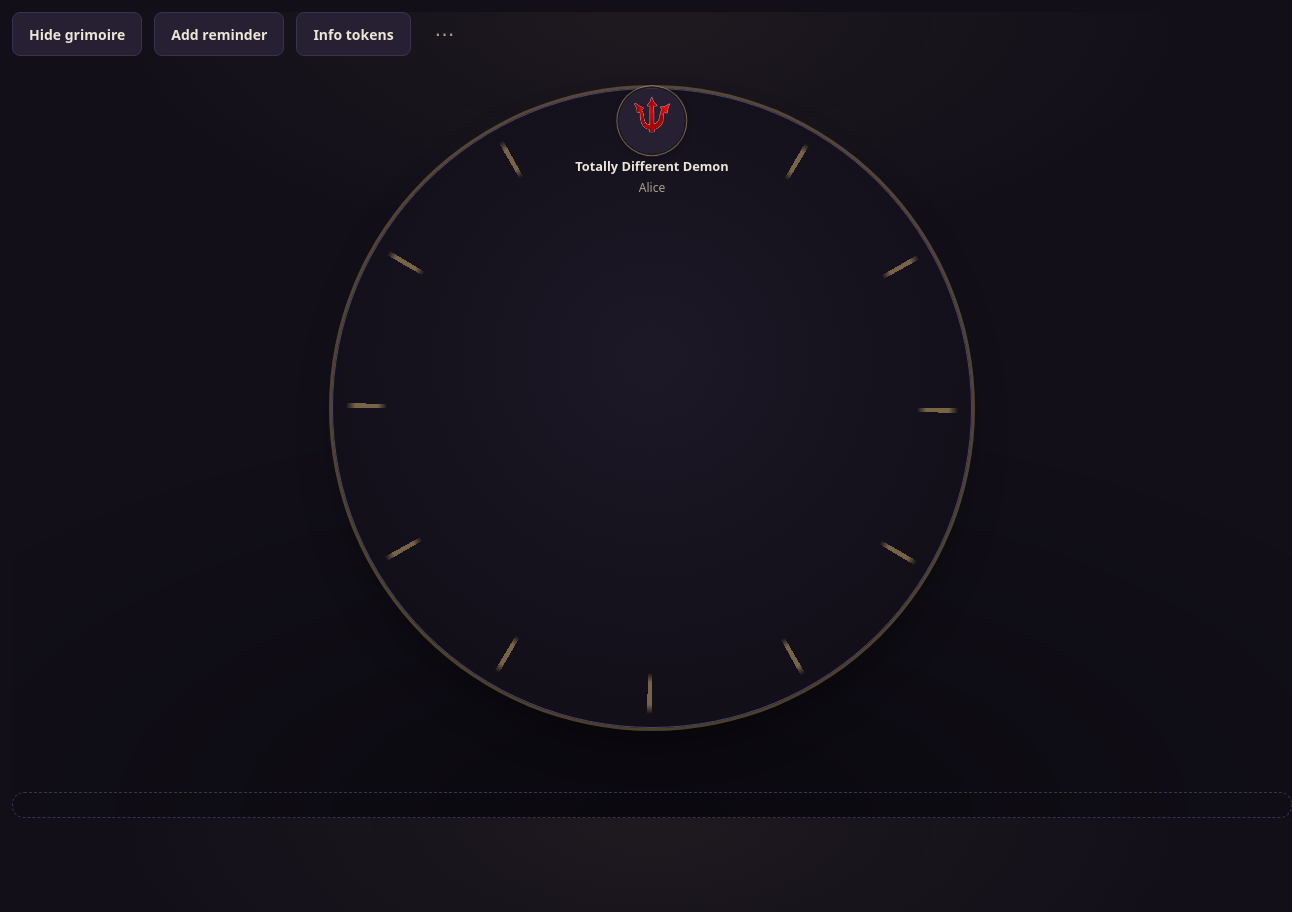
Test case: token menu › links to the almanac, not the wiki, for a homebrew character reusing an official id
The image size is (1292, 912).
Click the text "Alice" at [652, 188], box top-left (639, 180), bottom-right (665, 197)
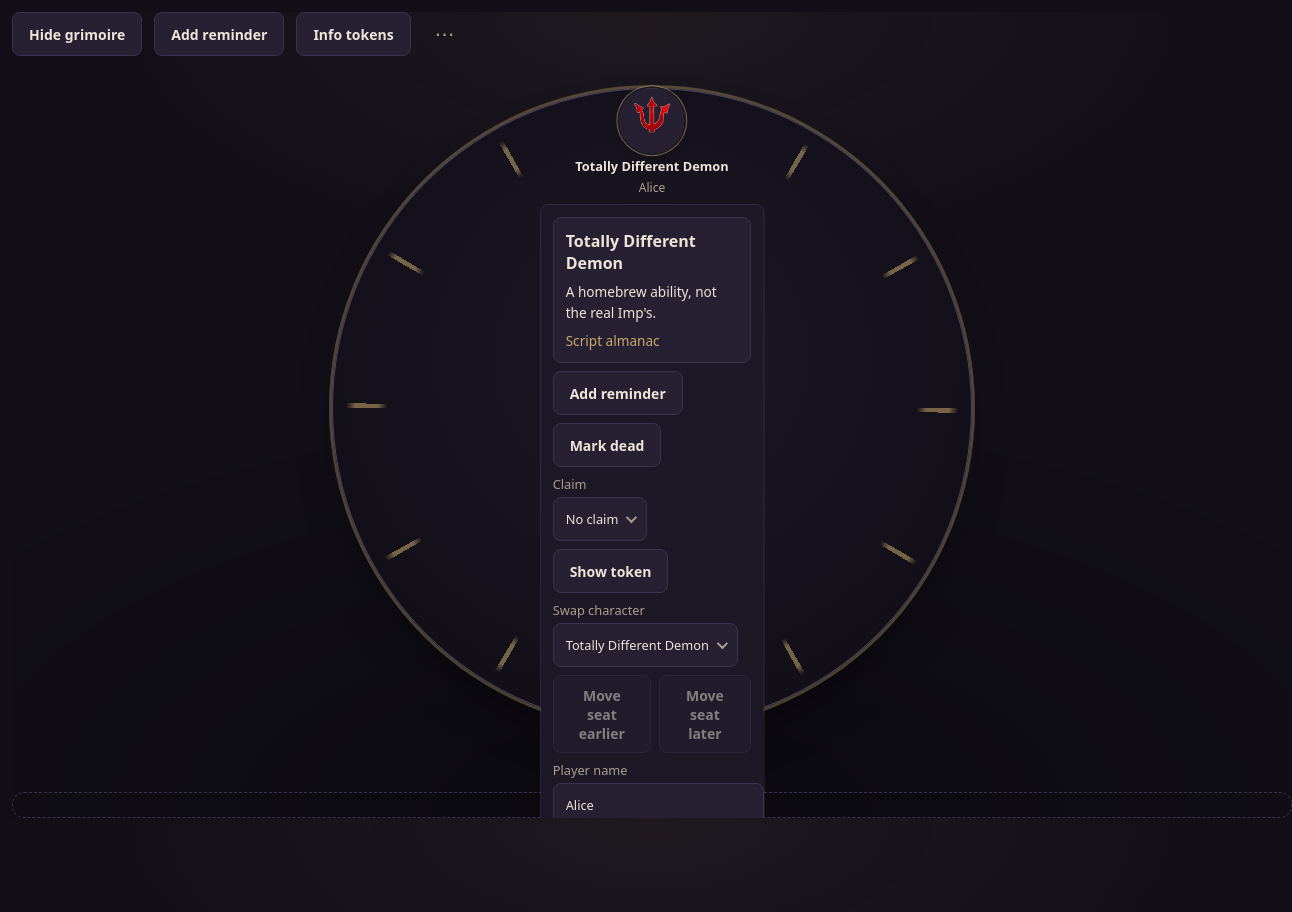
Expected: the text "A homebrew ability, not the real Imp's." is shown, top-left (566, 283), bottom-right (738, 324)
